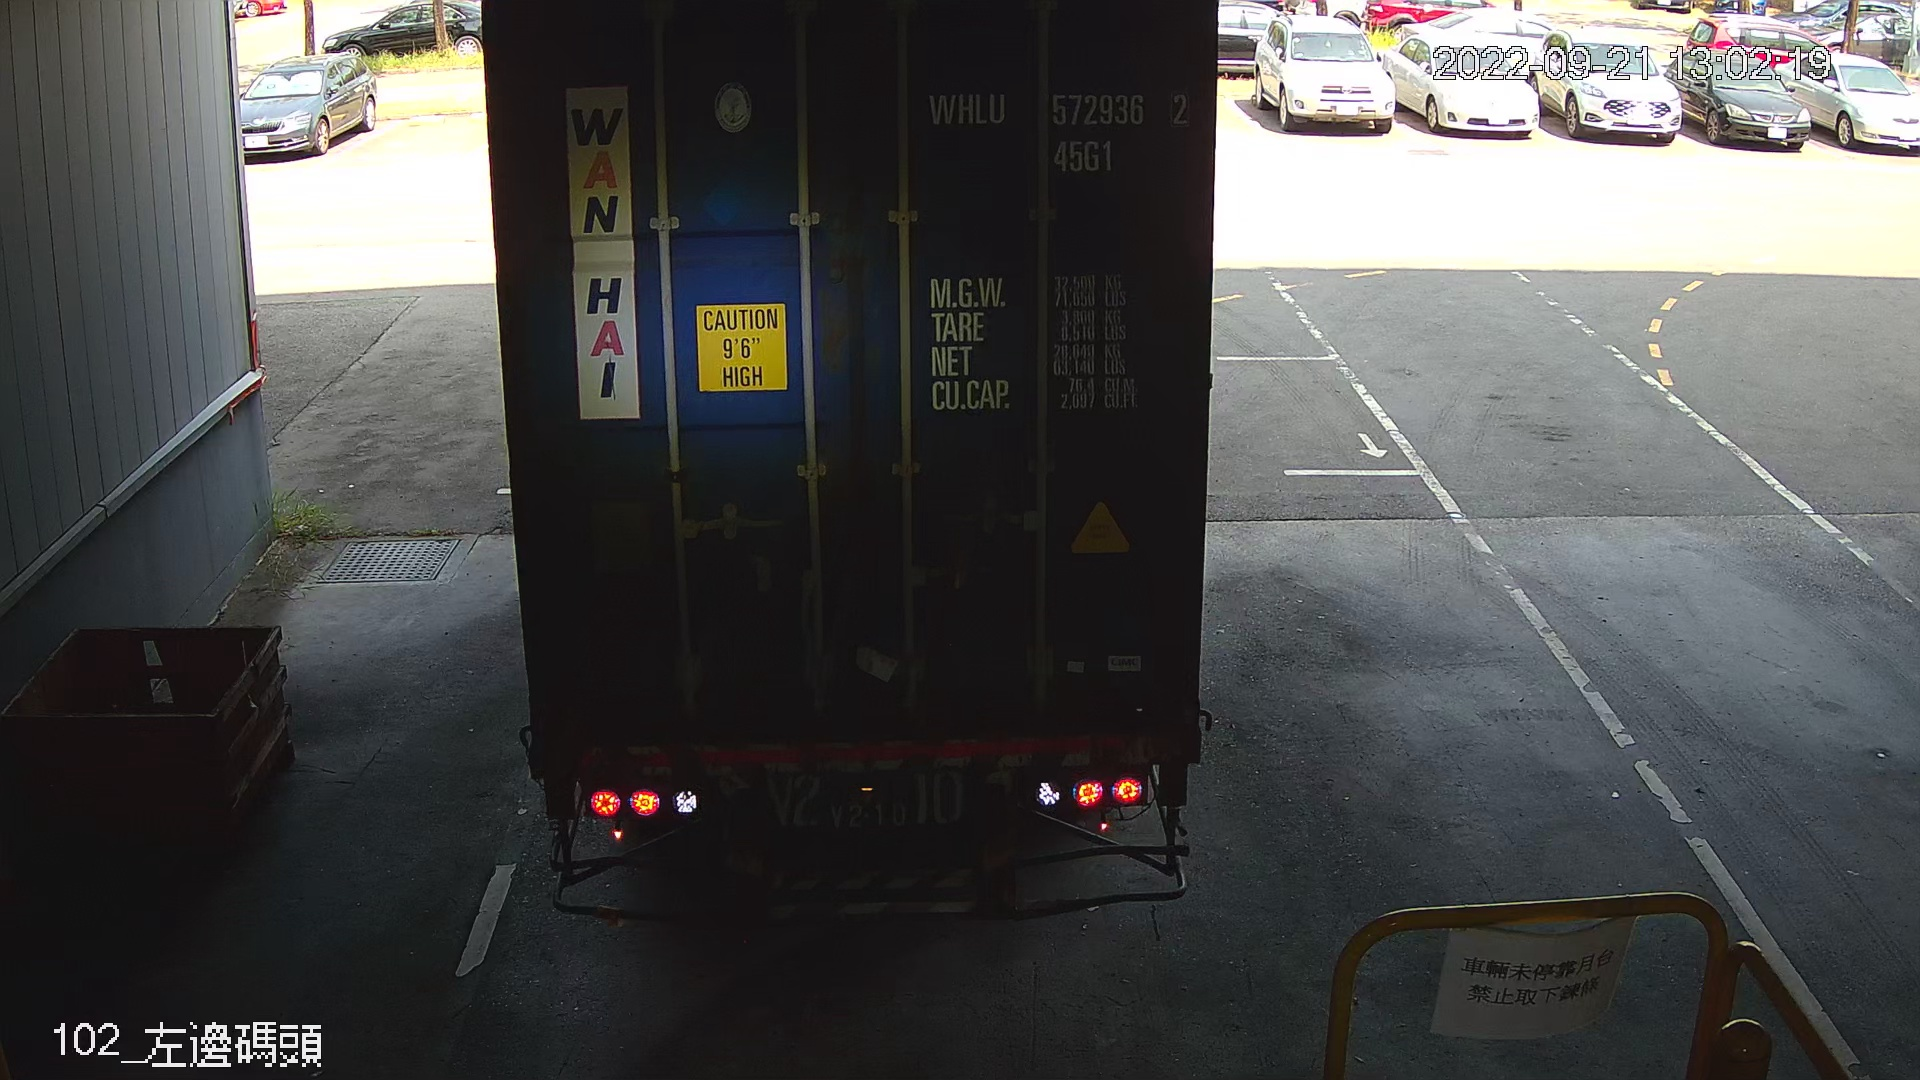container: (914, 80, 1201, 183)
